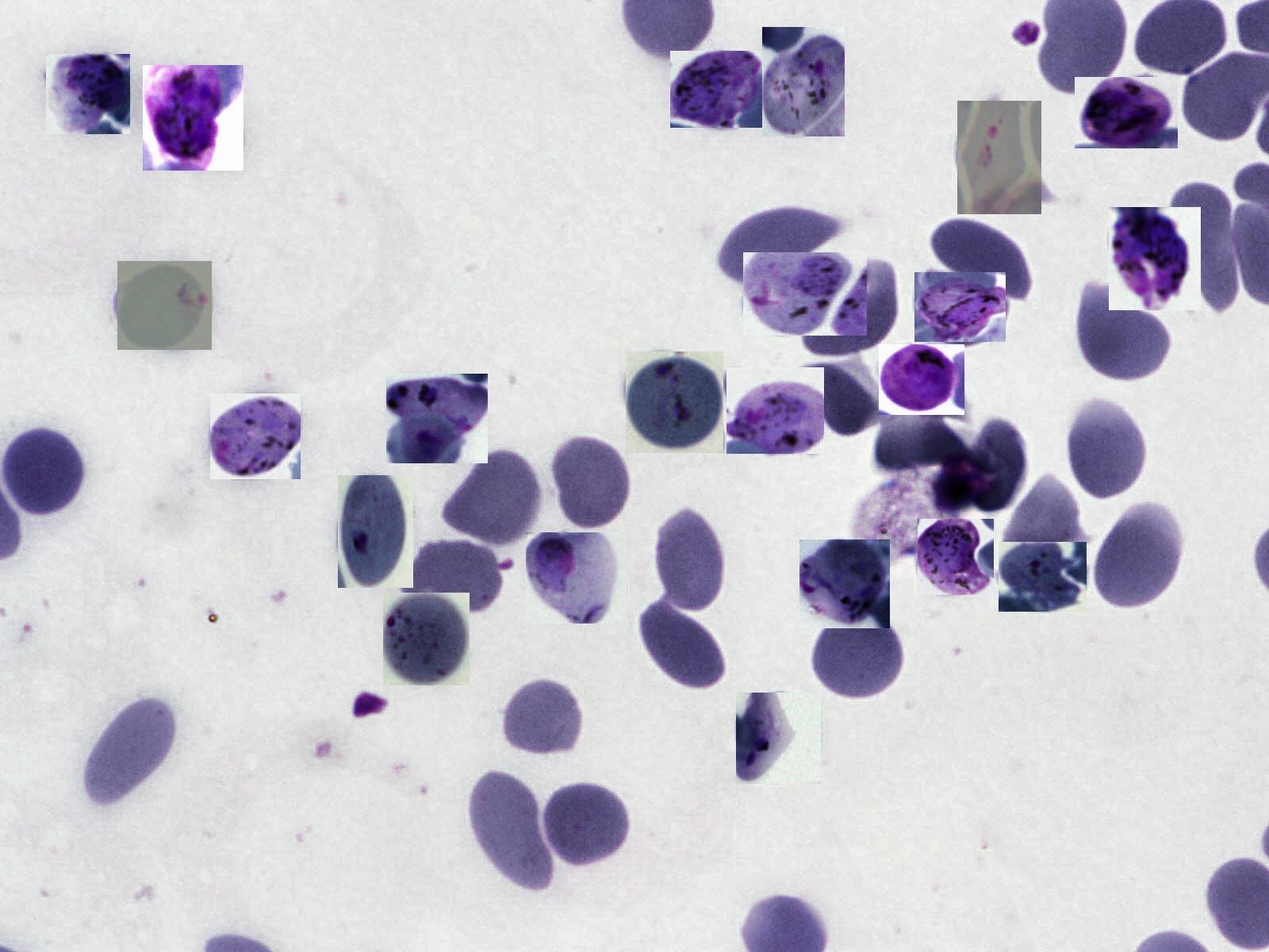Infected: (143, 65, 243, 171), (743, 252, 867, 336), (626, 351, 723, 453), (957, 101, 1041, 214), (1109, 207, 1201, 310), (526, 532, 627, 624), (386, 374, 488, 463), (762, 28, 845, 136), (338, 475, 413, 588), (117, 261, 212, 350), (727, 367, 824, 454), (799, 539, 890, 628), (383, 593, 470, 685), (210, 393, 301, 479), (736, 693, 821, 784), (670, 51, 769, 128), (1075, 77, 1178, 148), (46, 54, 130, 134), (914, 273, 1006, 343), (999, 542, 1087, 612), (879, 344, 964, 415), (918, 519, 994, 595)
Uninfected: (1094, 505, 1188, 614), (86, 697, 178, 808), (471, 769, 553, 892), (1071, 282, 1171, 381), (799, 256, 897, 357), (1167, 178, 1237, 315), (811, 607, 909, 703), (720, 203, 839, 282), (443, 451, 542, 544), (937, 217, 1041, 299), (546, 431, 630, 532), (1068, 399, 1148, 499), (401, 536, 503, 612), (951, 415, 1029, 512), (1003, 469, 1082, 564), (3, 425, 85, 515), (655, 507, 725, 611), (542, 788, 629, 865), (796, 362, 884, 435), (640, 608, 720, 688), (502, 678, 583, 757), (867, 421, 964, 469)
